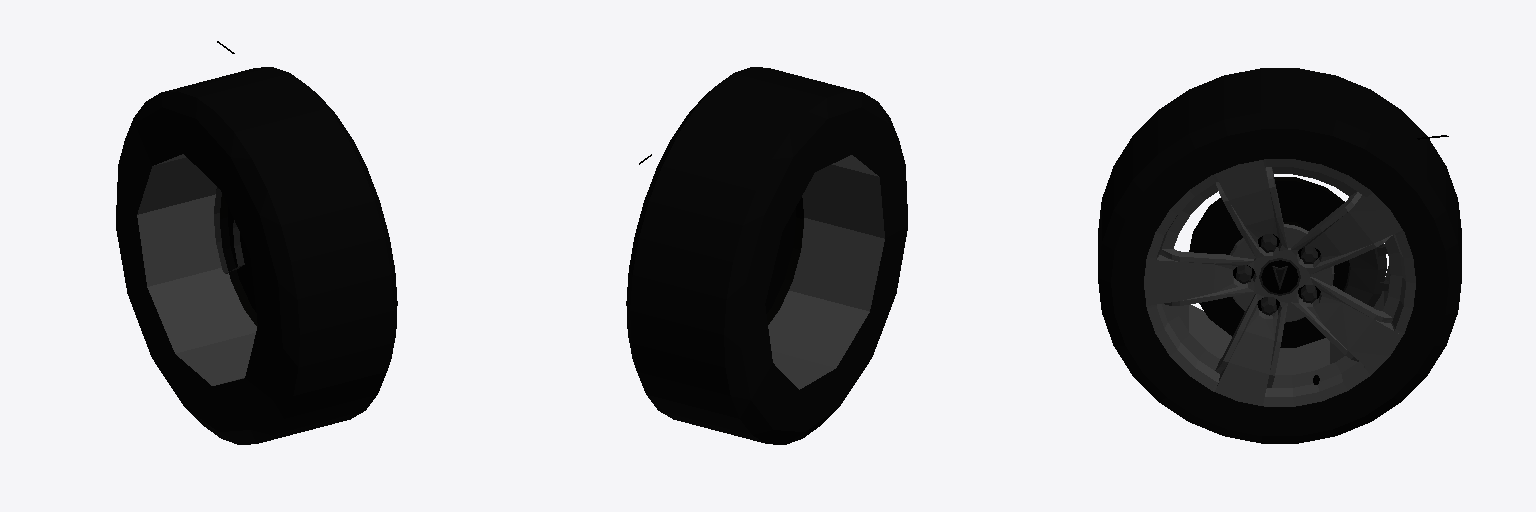
The model's file is BL-Weel.obj.
3 views of the same model, side by side, from view 1: azimuth 30°, elevation 25°; view 2: azimuth 150°, elevation 25°; view 3: azimuth 270°, elevation 25° (orthographic).
Visible parts, largest first — view 1: obj0; view 2: obj0; view 3: obj0.
Part boxes in pixels (x1,y1,x2,y2): obj0: (116, 41, 397, 444); obj0: (626, 67, 907, 444); obj0: (1098, 68, 1461, 443).
Size of the model in its own units: 0.8208 by 2.17 by 2.17.